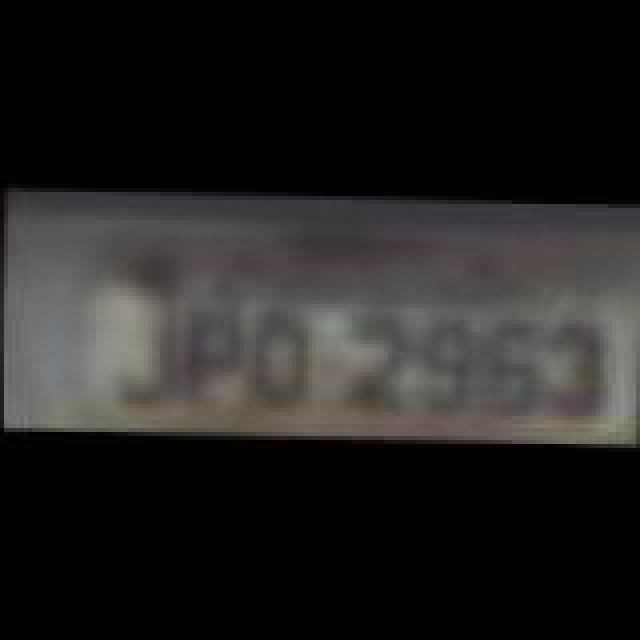2: (340, 314, 416, 418)
3: (546, 320, 610, 416)
6: (482, 322, 546, 418)
9: (414, 310, 486, 418)
J: (110, 308, 182, 404)
O: (246, 310, 318, 414)
P: (182, 306, 246, 406)
